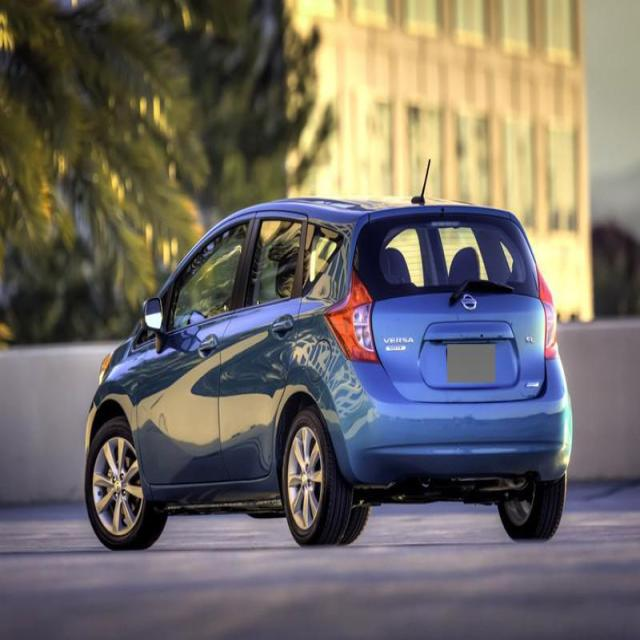back_left_side_light: (322, 264, 382, 365)
back_right_side_light: (534, 260, 560, 359)
door: (225, 213, 313, 476)
front_left_side_door: (134, 209, 256, 489)
front_left_side_light: (97, 344, 114, 388)
front_left_side_mirror: (139, 292, 164, 344)
rear_bumper: (316, 352, 574, 491)
wheel: (86, 419, 168, 551), (280, 406, 354, 548), (495, 470, 569, 540)
